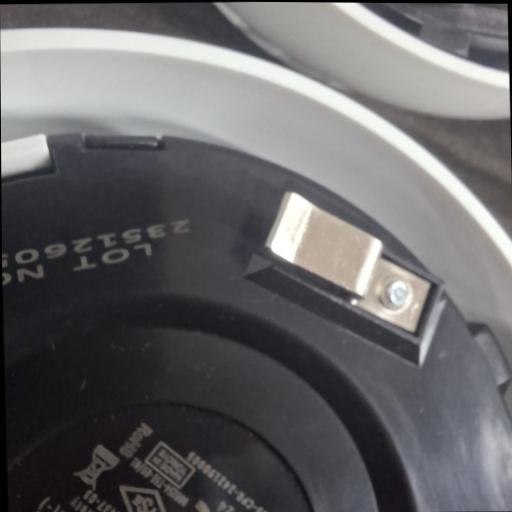yaysiz: (257, 186, 436, 338)
